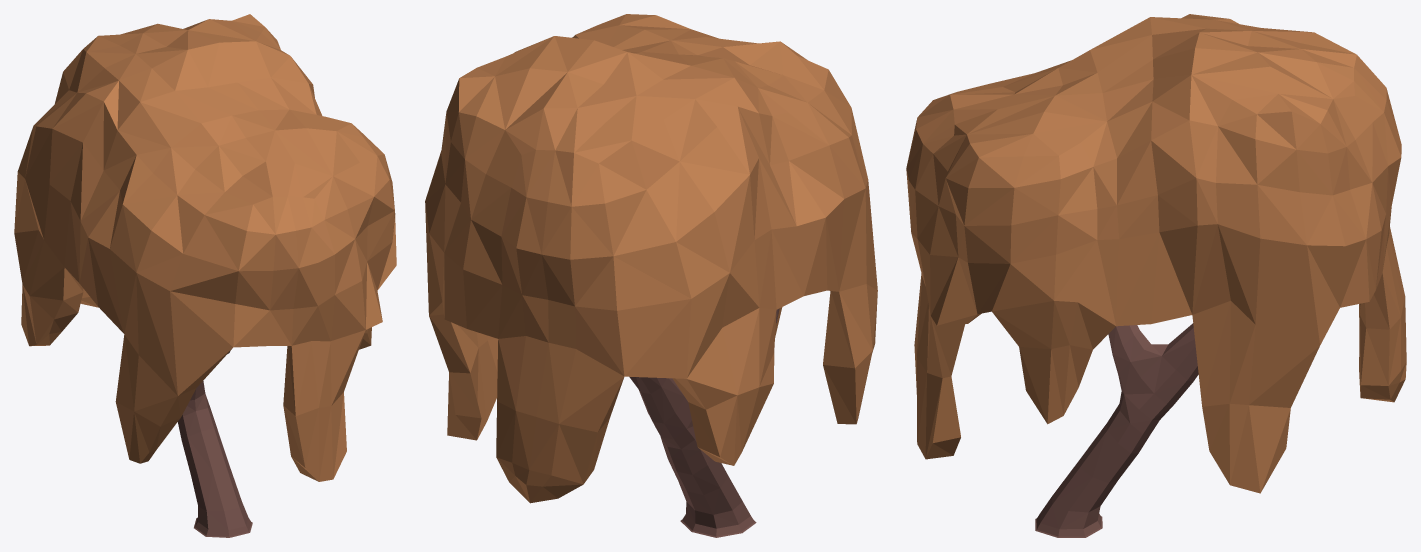
File: Willow_Autumn_4.glb
The picture shows the model from 3 angles, left to right: view 1: azimuth 30°, elevation 25°; view 2: azimuth 150°, elevation 25°; view 3: azimuth 270°, elevation 25°; orthographic projection. The views are drawn at different scales.
Parts seen in each view (by area): view 1: Model; view 2: Model; view 3: Model.
Boxes of the visible parts, x1,y1,x2,y2 form: Model: (14,14,396,537); Model: (425,14,877,537); Model: (906,14,1406,537).
Size of the model in its own units: 219 by 339 by 304.
